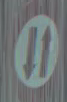Two way: (8, 10, 59, 88)
